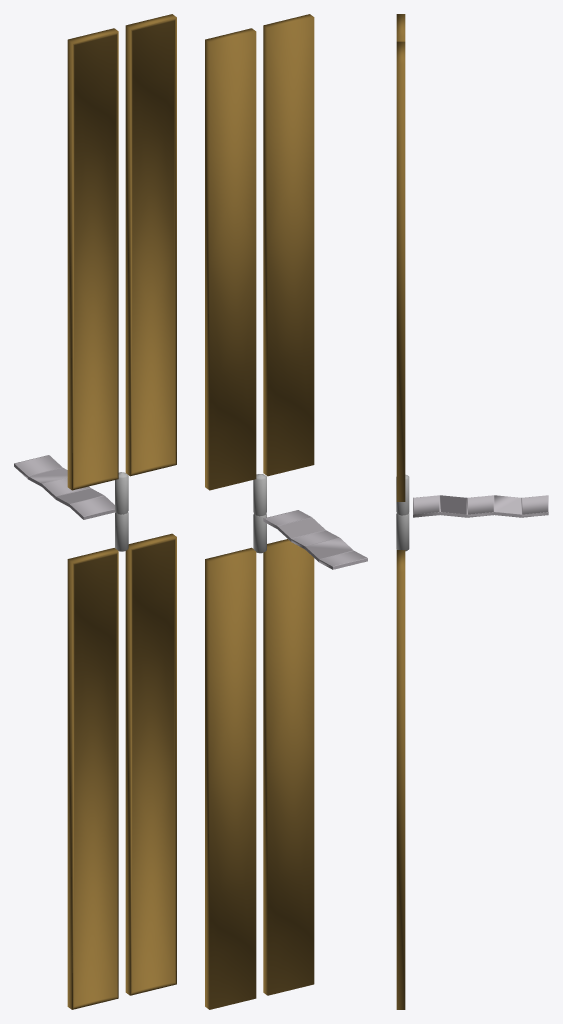
File: iss-arrays-s6.glb
3 views of the same model, side by side, from view 1: azimuth 30°, elevation 25°; view 2: azimuth 210°, elevation 25°; view 3: azimuth 270°, elevation 25° (orthographic). The views are drawn at different scales.
Parts seen in each view (by area): view 1: arrays-s6; view 2: arrays-s6; view 3: arrays-s6.
Boxes of the visible parts, left/top/right/bottom form: arrays-s6: left=14, top=14, right=176, bottom=1009; arrays-s6: left=205, top=14, right=367, bottom=1009; arrays-s6: left=396, top=14, right=548, bottom=1009.
Bounding box in the file's own units: 8.13 × 71.66 × 10.47.
Materials: 1 (1 with a texture image).
